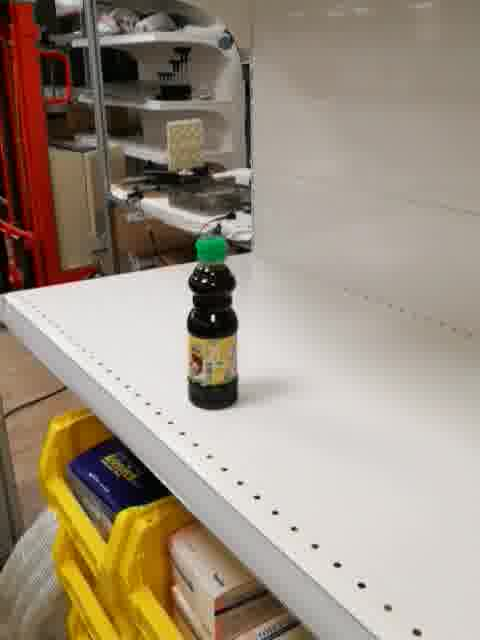cookingoil: (184, 236, 241, 410)
